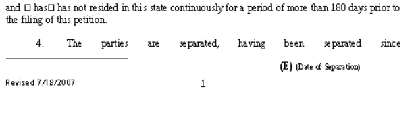textline: (4, 51, 133, 61)
